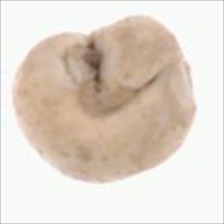L5: (89, 12, 187, 100), (63, 46, 150, 120)
L6: (11, 12, 198, 186)
